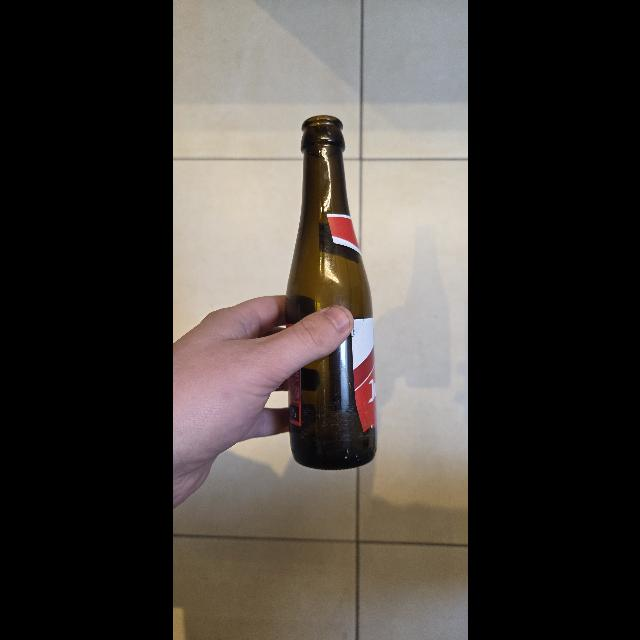Glass: (282, 114, 383, 470)
